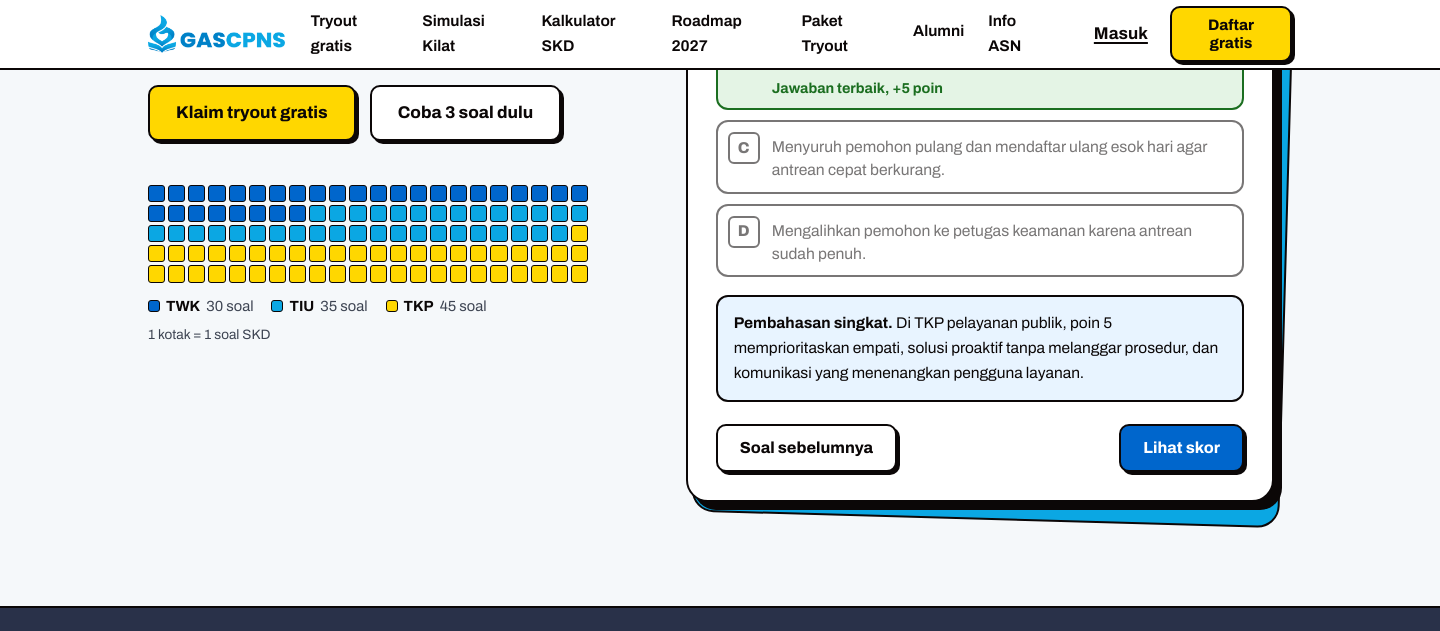
Scenario: hero quiz, calculator, and lead form work end to end
The image size is (1440, 631).
Earlier steps of the test are not shown.
(page scrolled)
Click the button "Lihat skor": (1182,448) x1=1119 y1=424 x2=1244 y2=472
(page scrolled)
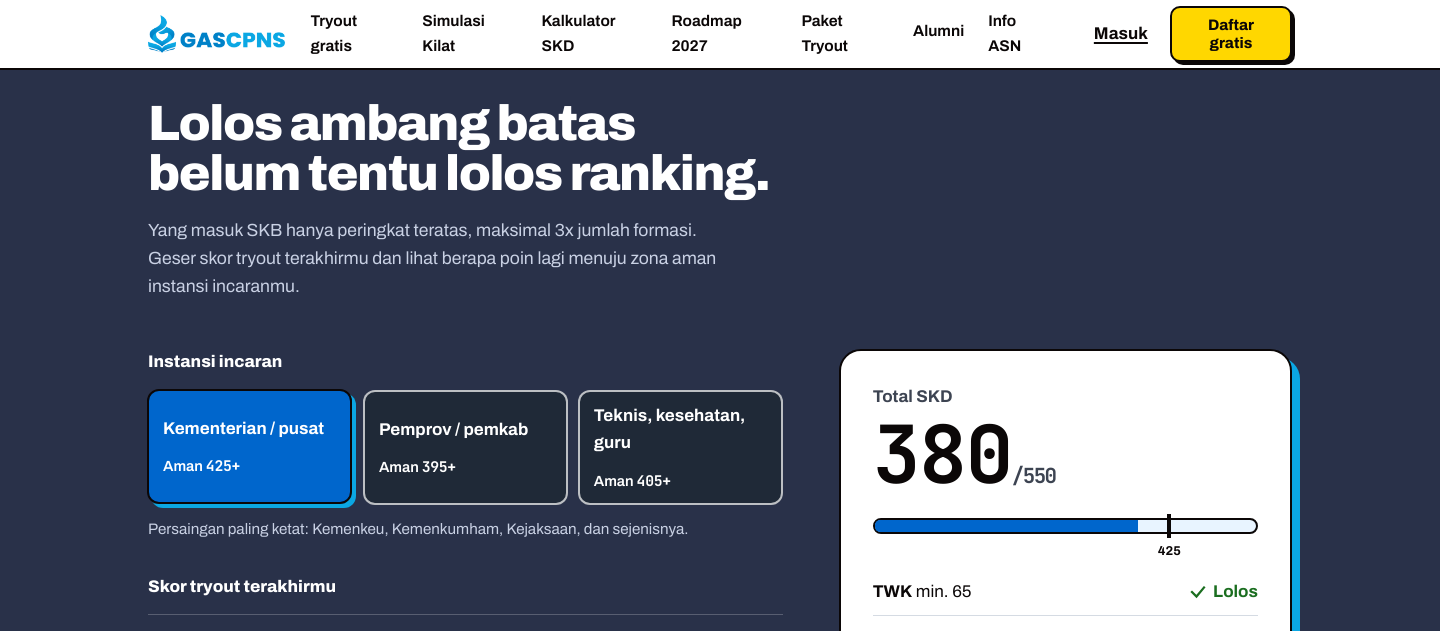
Click the button "Pemprov / pemkab Aman 395+": (465,448) x1=363 y1=390 x2=568 y2=505
(page scrolled)
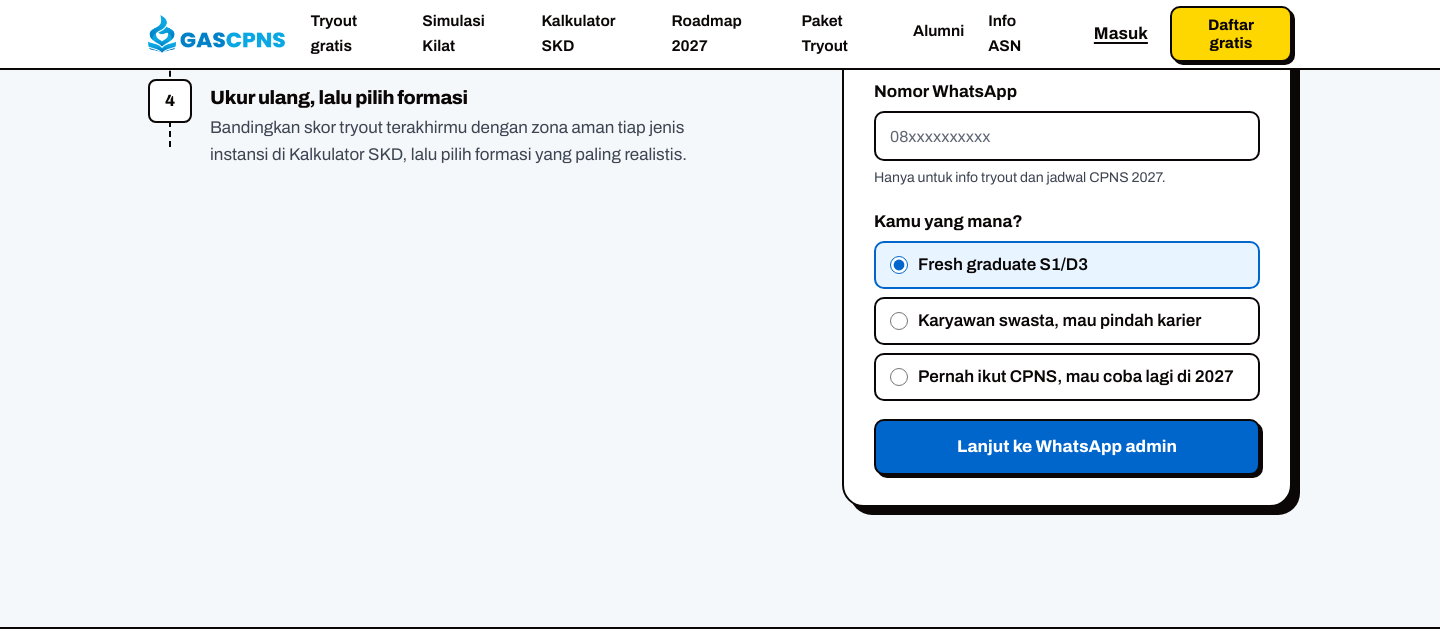
Click the button "Lanjut ke WhatsApp admin": (1067,447) x1=874 y1=419 x2=1260 y2=475
(page scrolled)
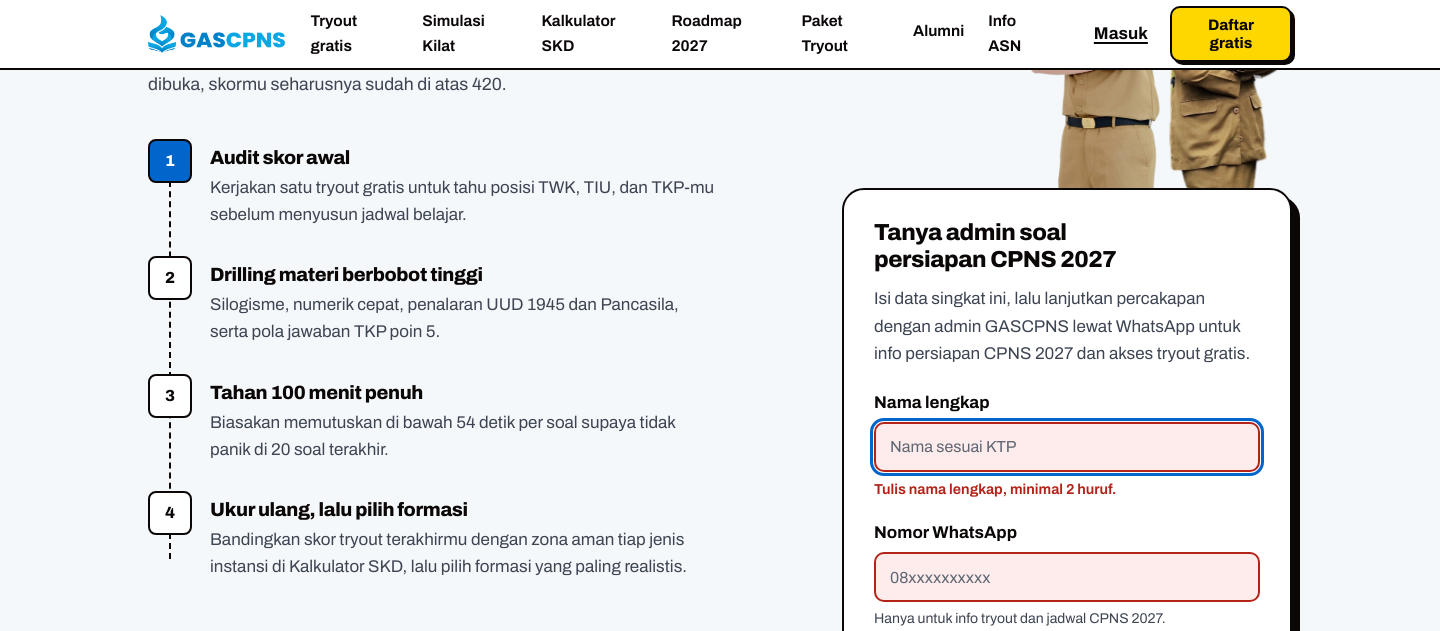
Now the text "Tulis nama lengkap, minimal 2 huruf." is shown, box x1=874 y1=481 x2=1116 y2=497
In the field labelled "Nama lengkap": (1067,447) x1=874 y1=422 x2=1260 y2=472, type "Rizky Pratama"
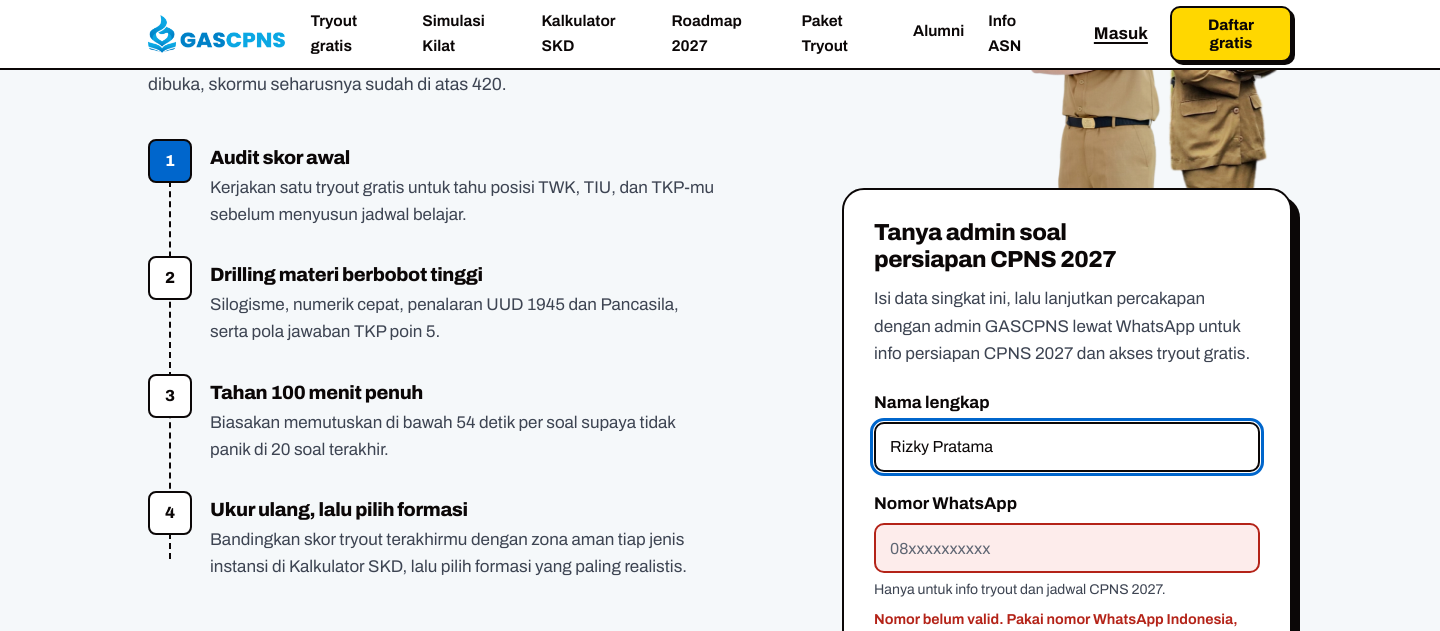
In the field labelled "Nomor WhatsApp": (1067,548) x1=874 y1=523 x2=1260 y2=573, type "081234567890"
(page scrolled)
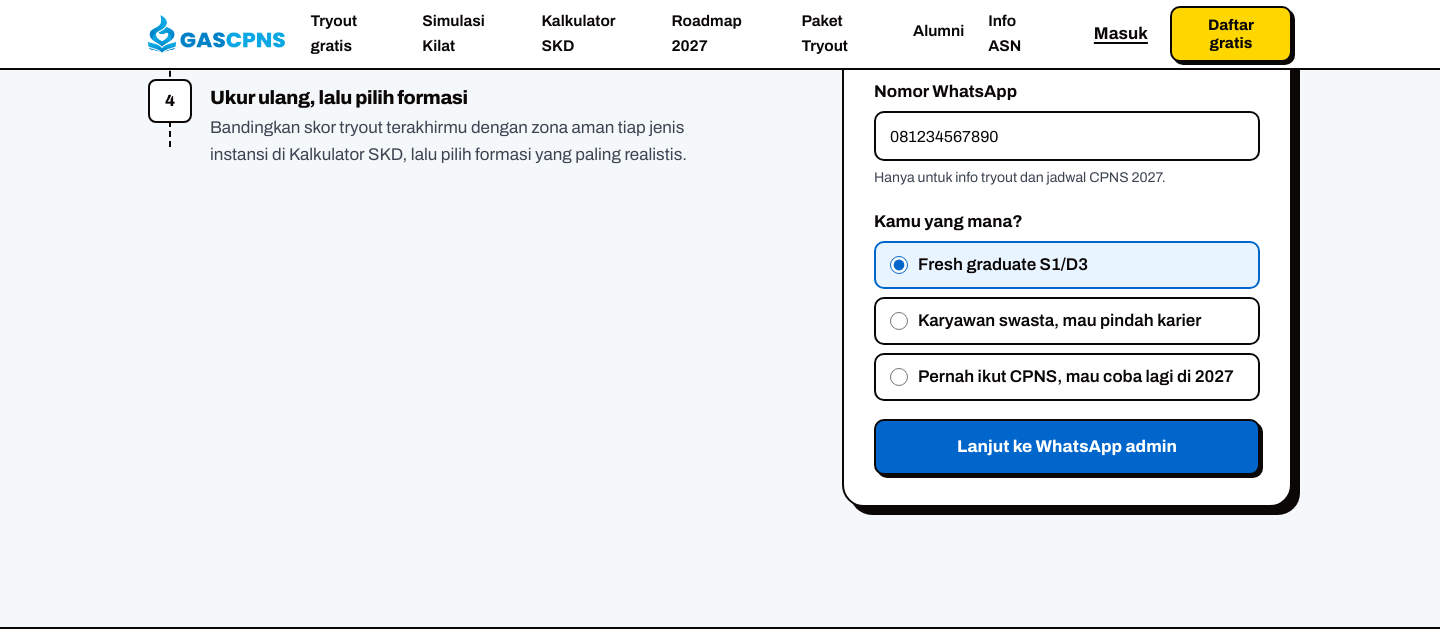
Click the button "Lanjut ke WhatsApp admin": (1067,447) x1=874 y1=419 x2=1260 y2=475
(page scrolled)
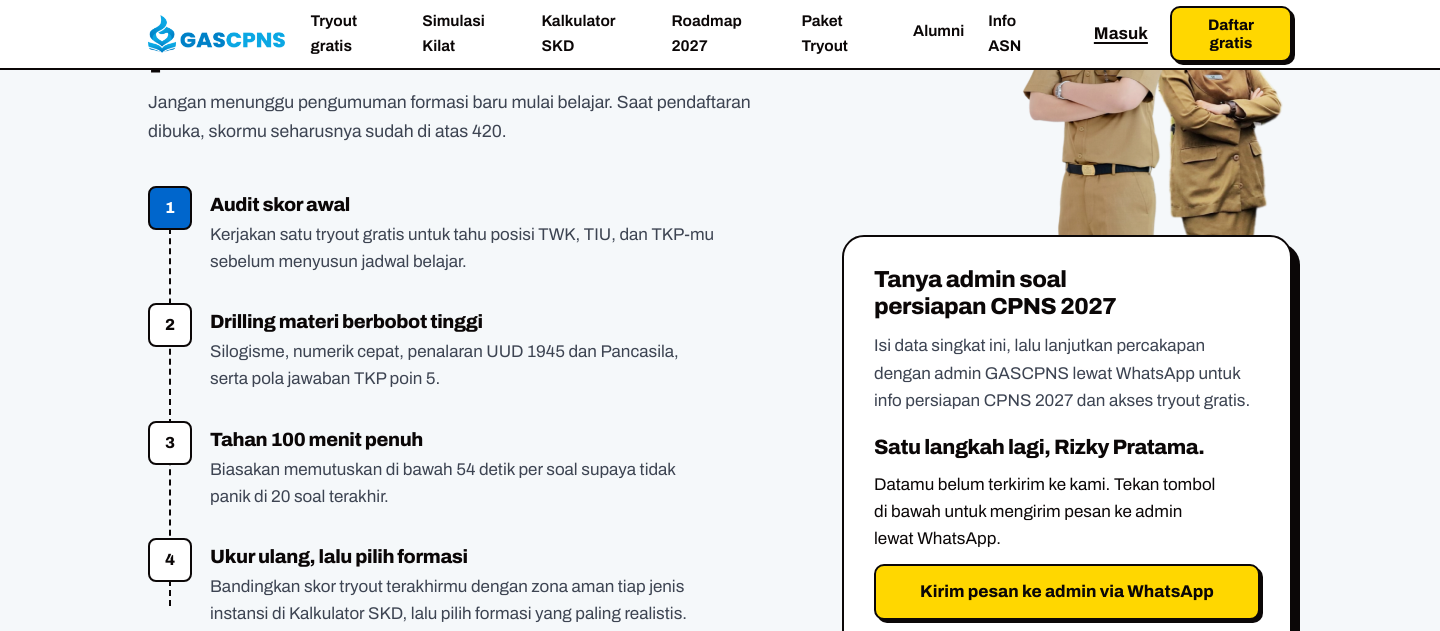
Now the heading "Satu langkah lagi, Rizky Pratama." is shown, box x1=874 y1=436 x2=1260 y2=459
